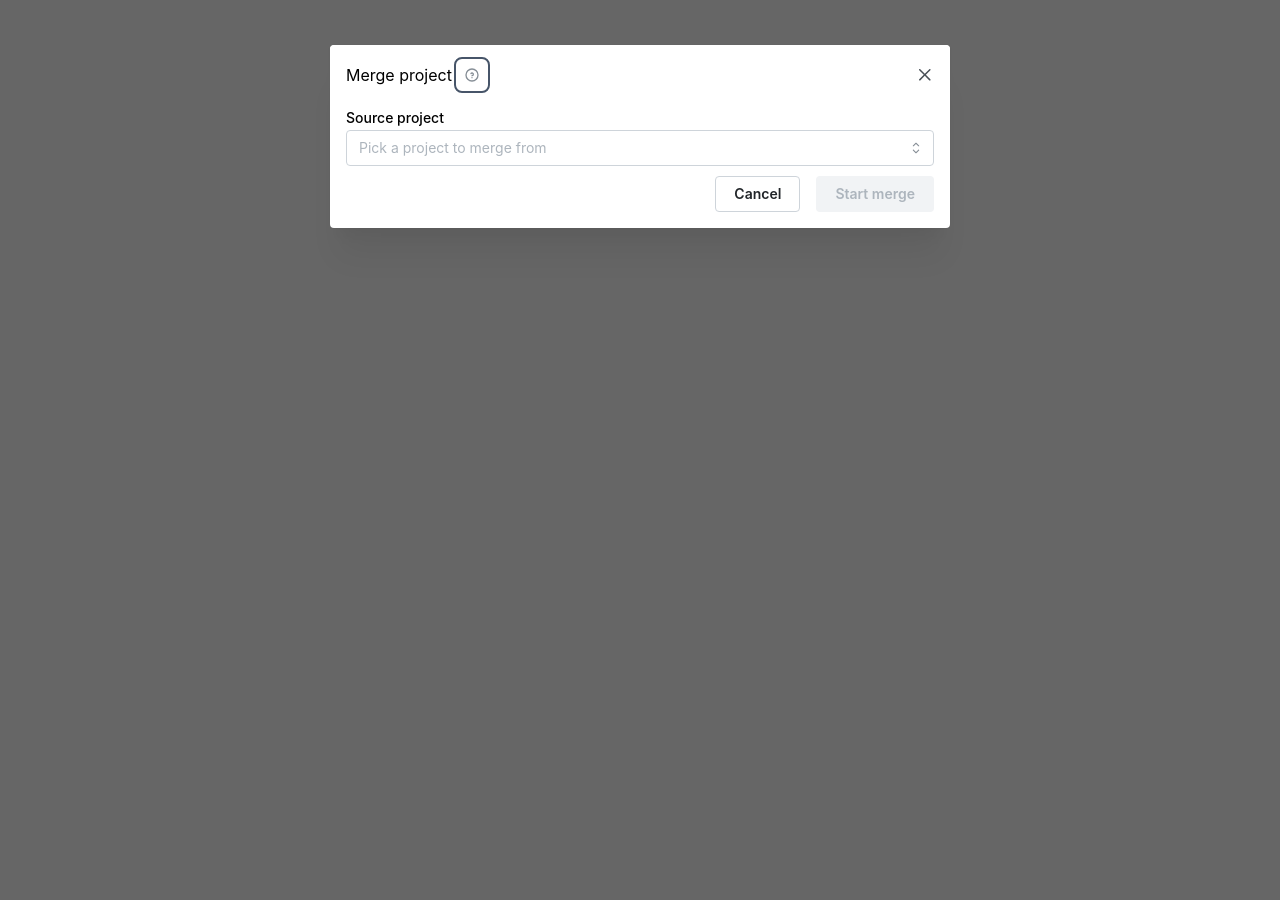
Test: the unreviewed-possibles warning singularizes its copy for exactly one possible match
The image size is (1280, 900).
Click the field labelled "Source project".
click(640, 148)  # box [346,130,934,166]
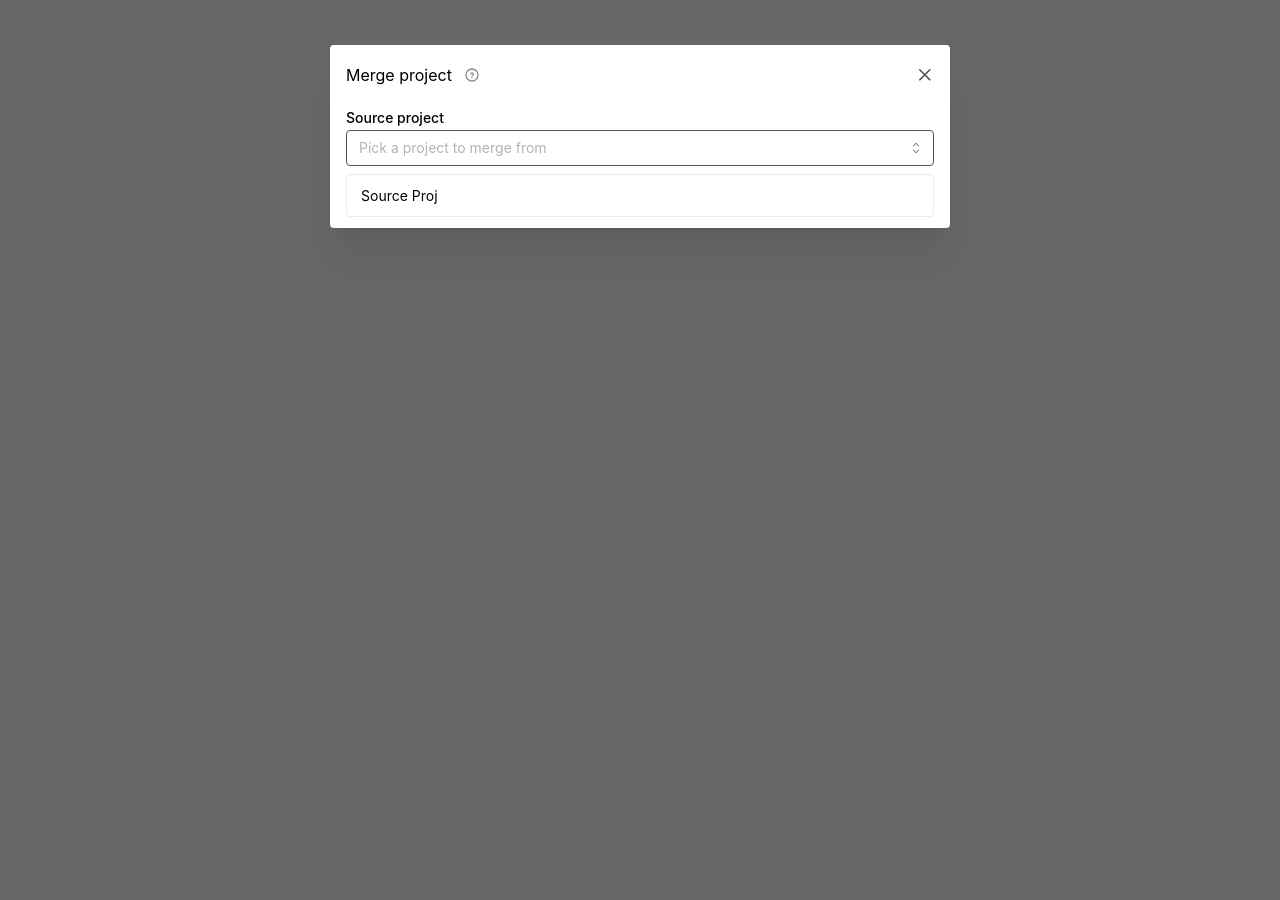
Click the option "Source Proj".
click(399, 195)  # box [361,187,438,204]
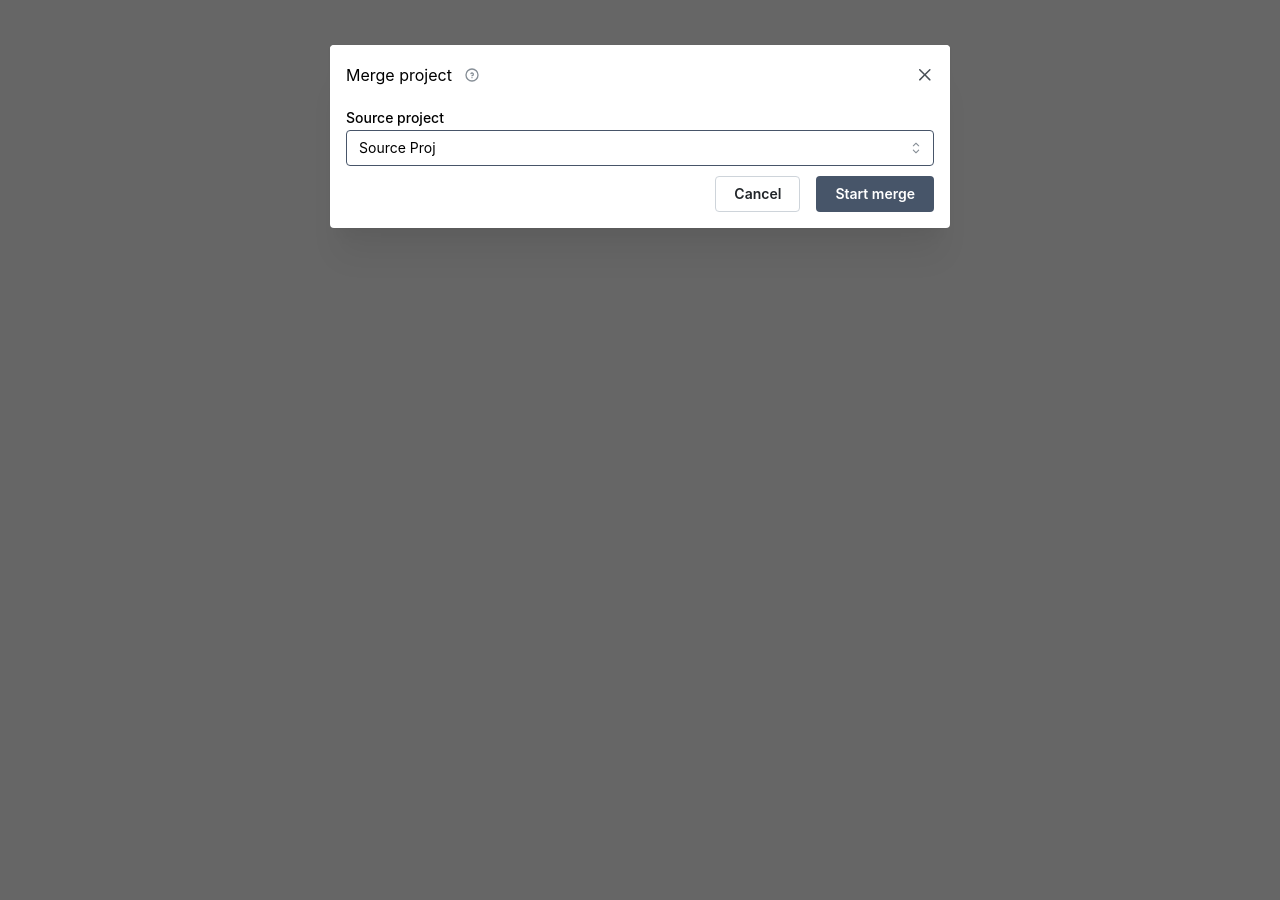
Click the button "Start merge".
click(875, 194)  # box [816,176,934,212]
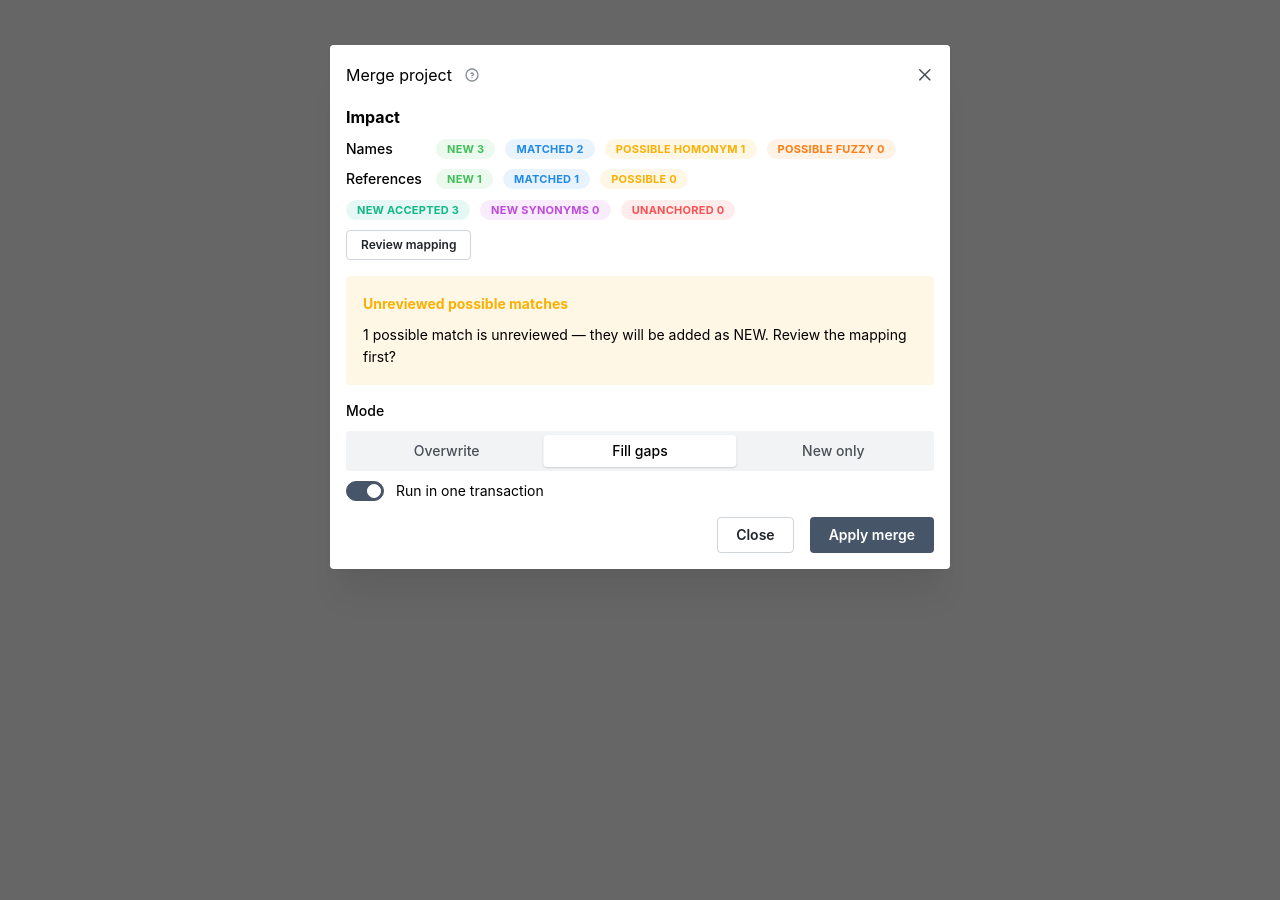
Expected: the text "1 possible match is unreviewed — they will be added as NEW" is shown, [363,324,917,368]
